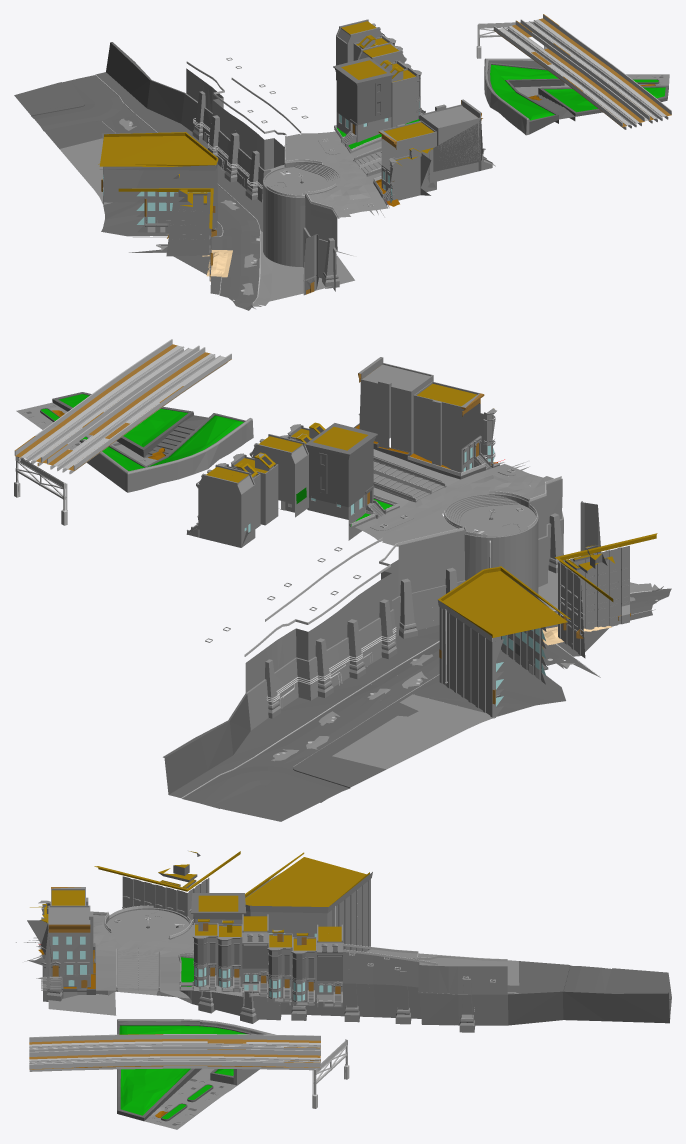
The model's file is brook_n_2.FBX.
3 views of the same model, one above another, from view 1: azimuth 30°, elevation 25°; view 2: azimuth 150°, elevation 25°; view 3: azimuth 270°, elevation 25° (orthographic). The views are drawn at different scales.
Visible parts, largest first — view 1: unnamed, null; view 2: unnamed, null; view 3: unnamed, null.
Boxes of the visible parts, bbox=[...] form: unnamed: bbox=[98, 14, 671, 310]; null: bbox=[14, 42, 275, 204]; unnamed: bbox=[14, 339, 671, 716]; null: bbox=[163, 579, 503, 821]; unnamed: bbox=[16, 851, 373, 1129]; null: bbox=[340, 879, 671, 1032].
Size of the model in its own units: 194 by 49.89 by 187.
